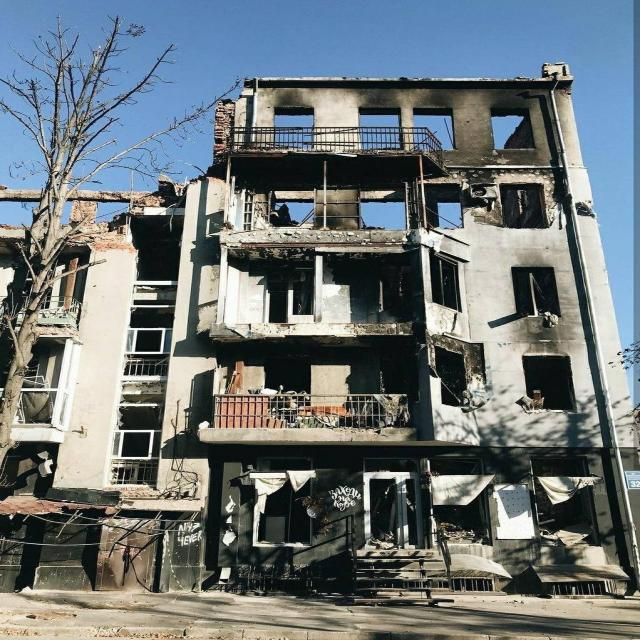broken_window: (490, 106, 535, 150)
building: (1, 60, 638, 598)
